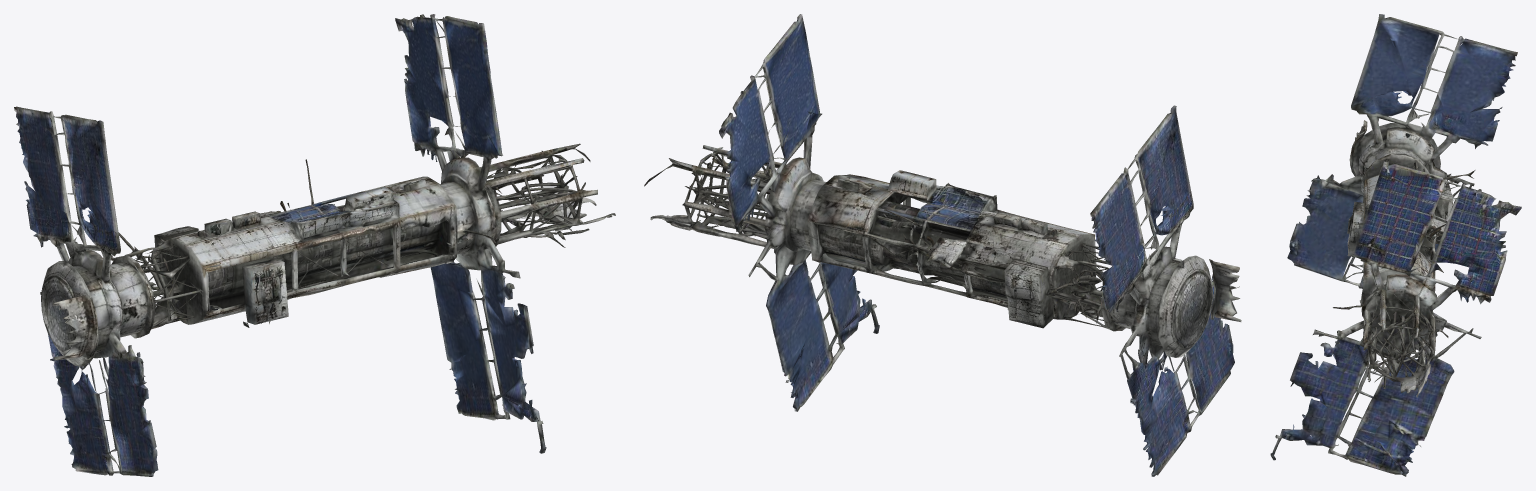
File: obj_station.glb
The picture shows the model from 3 angles, left to right: view 1: azimuth 30°, elevation 25°; view 2: azimuth 150°, elevation 25°; view 3: azimuth 270°, elevation 25°; orthographic projection. The views are drawn at different scales.
Visible parts, largest first — view 1: tripo_node_a1097721-67be-427f-ad1e-2bb25f2af8fe; view 2: tripo_node_a1097721-67be-427f-ad1e-2bb25f2af8fe; view 3: tripo_node_a1097721-67be-427f-ad1e-2bb25f2af8fe.
Part boxes in pixels (<box>): tripo_node_a1097721-67be-427f-ad1e-2bb25f2af8fe: <box>14,14,615,476</box>; tripo_node_a1097721-67be-427f-ad1e-2bb25f2af8fe: <box>644,14,1241,476</box>; tripo_node_a1097721-67be-427f-ad1e-2bb25f2af8fe: <box>1270,14,1521,476</box>.
Size of the model in its own units: 0.9998 by 0.66 by 0.472.
Materials: 1 (1 with a texture image).
